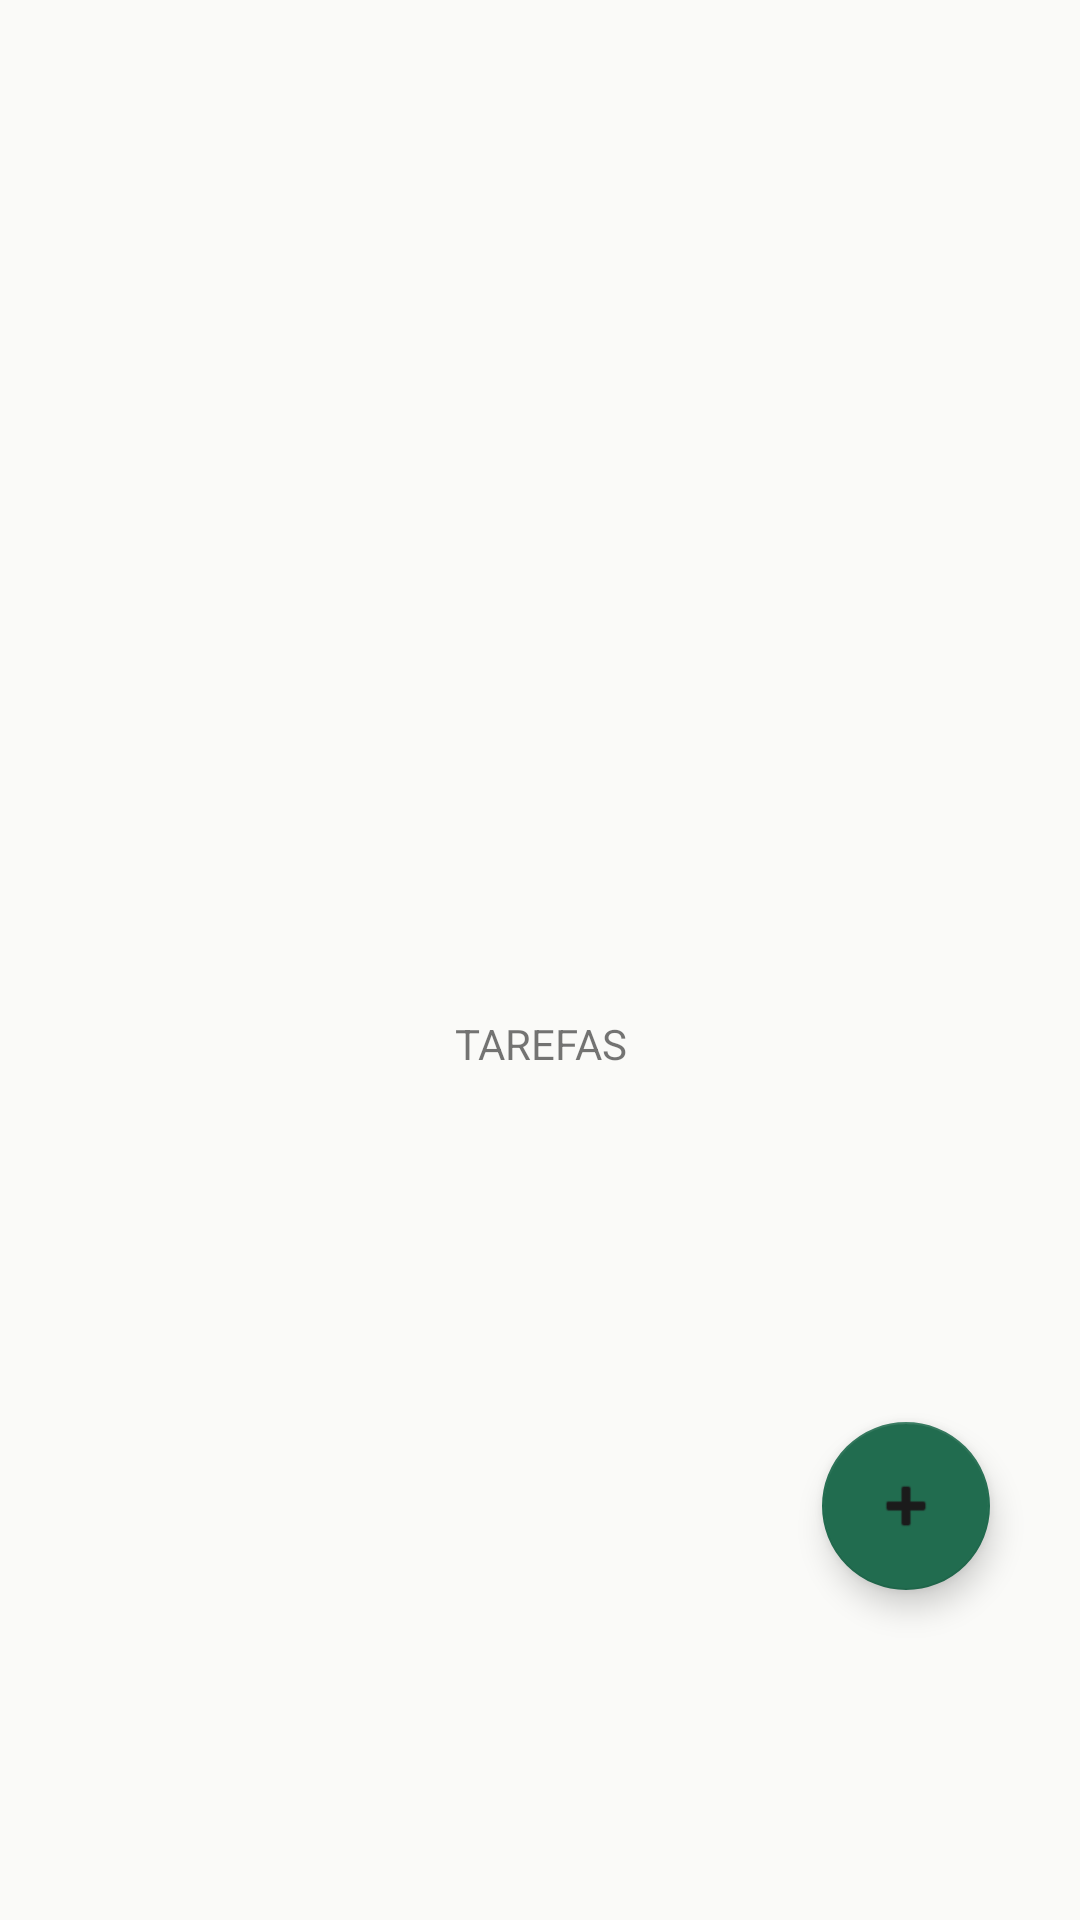

Icons on this 1080px×1920px Android screen, each with its box as {"left": x1, "top": y1, "right": x2, "bottom": y2}:
Adicionar nova atividade: {"left": 822, "top": 1422, "right": 990, "bottom": 1590}
